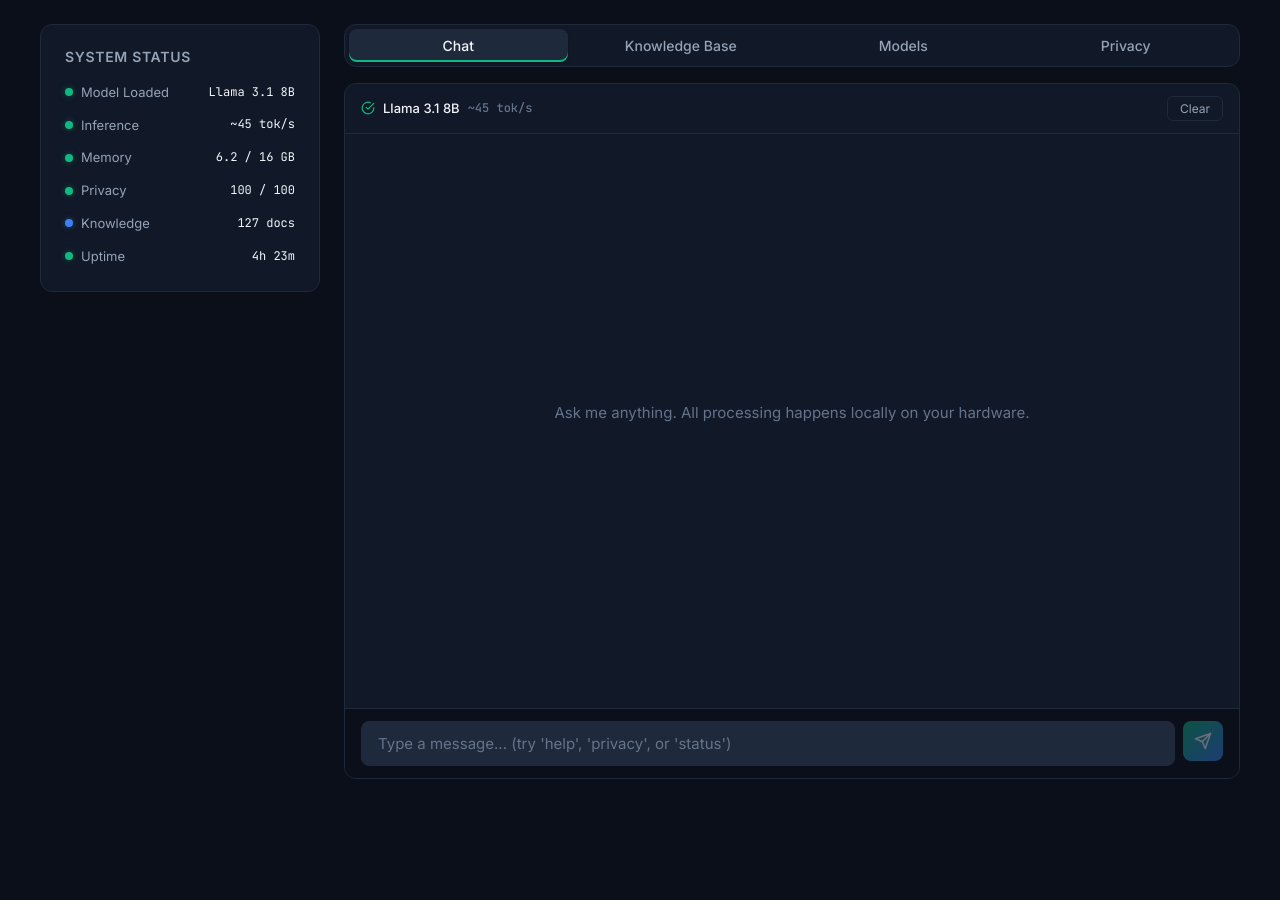
Test: DashboardPage › sends a chat message
The width and height of the screenshot is (1280, 900).
Type "hello" into the field named "Chat message input" at (768, 744), box [361,721,1175,766]
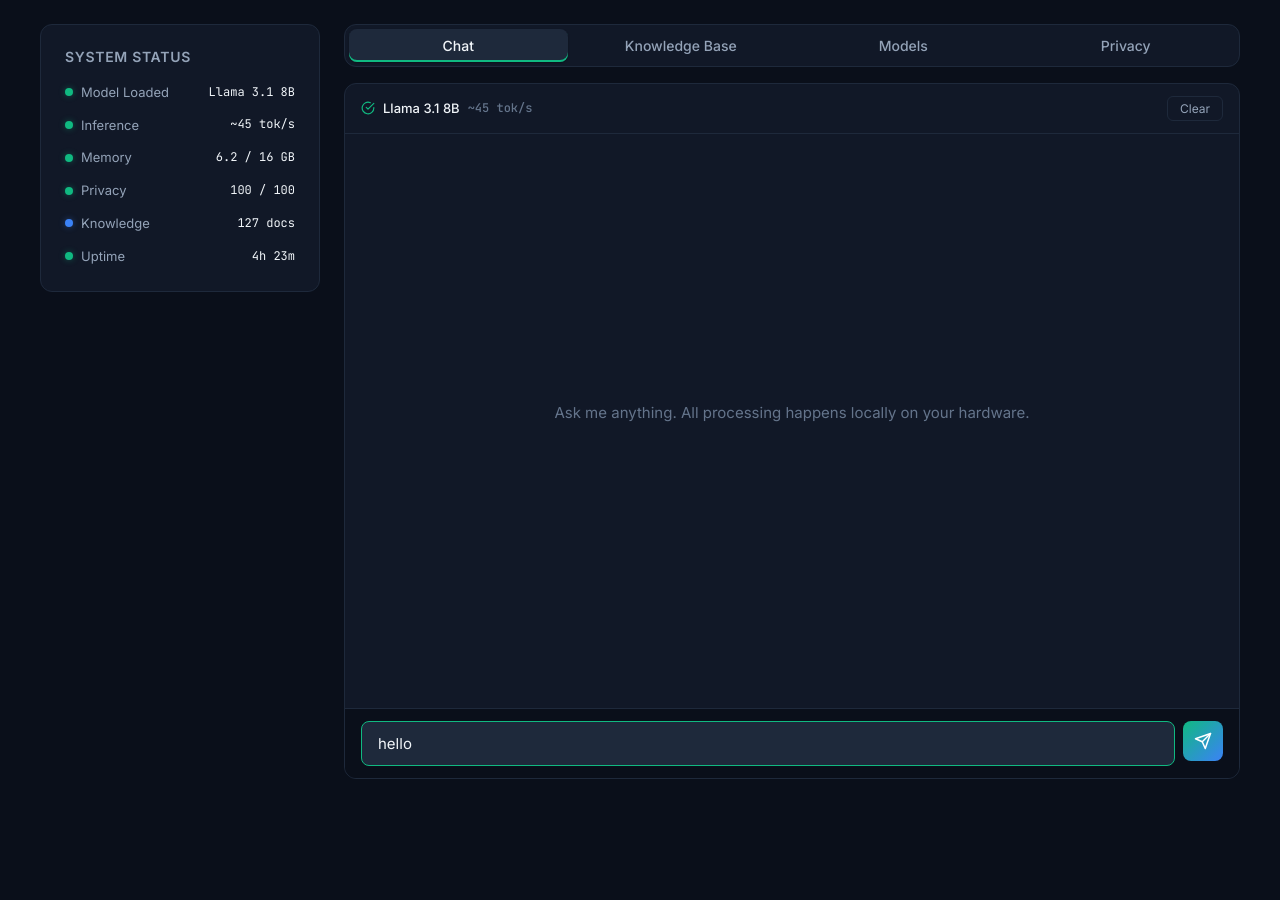
Click the button named "Send message" at (1203, 741), box [1183,721,1223,761]
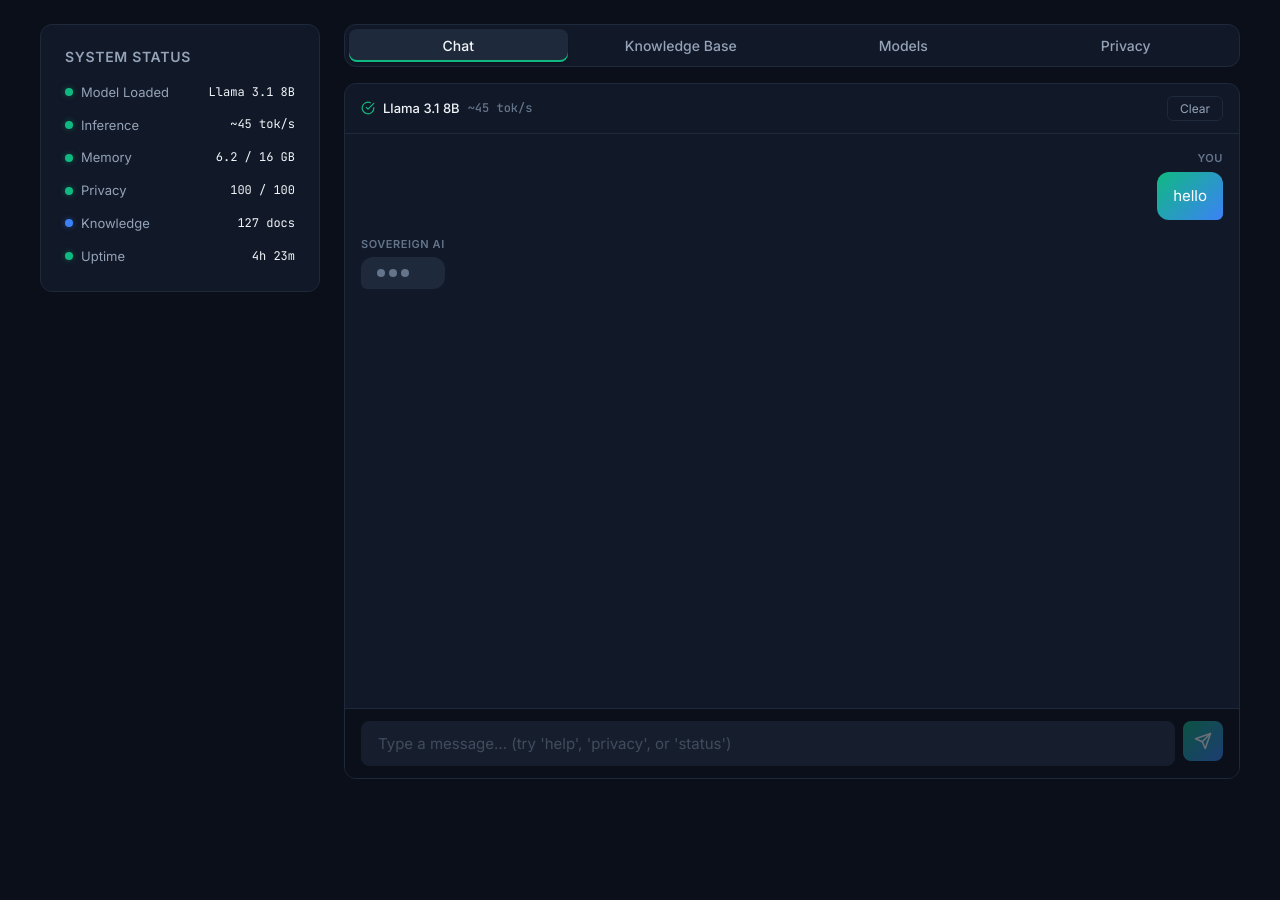
Check: the text "hello" is shown, box [1157,172,1223,220]
